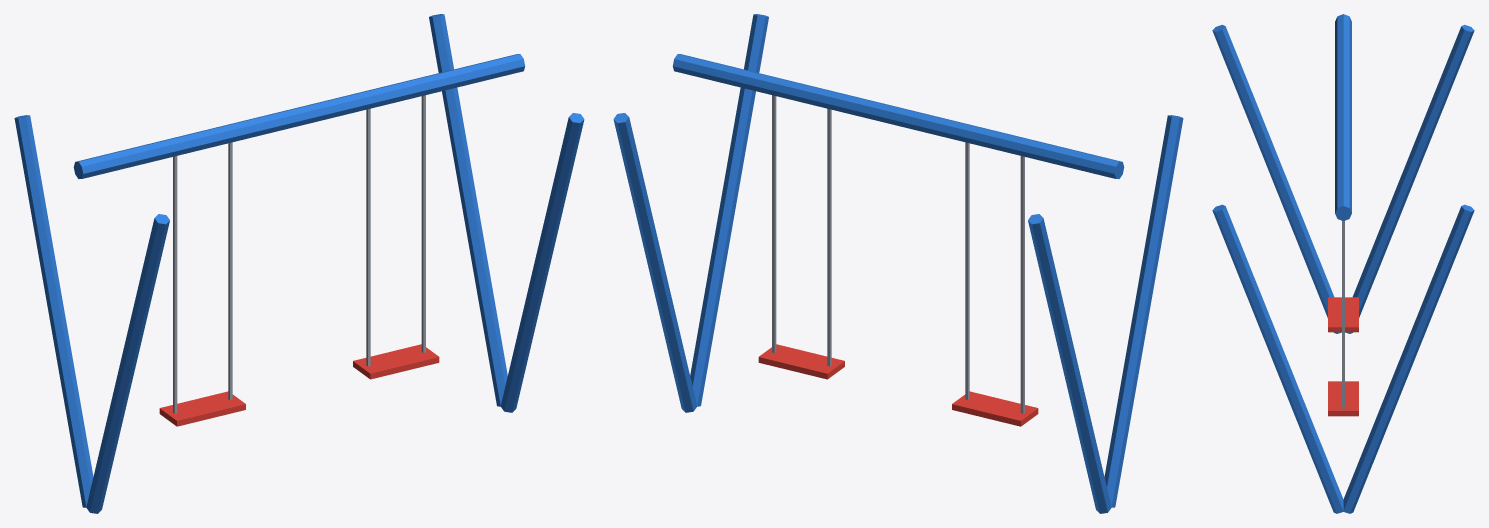
The model's file is Playground_Swing.fbx.
3 views of the same model, side by side, from view 1: azimuth 30°, elevation 25°; view 2: azimuth 150°, elevation 25°; view 3: azimuth 270°, elevation 25° (orthographic). The views are drawn at different scales.
Parts seen in each view (by area): view 1: Playground_Swing; view 2: Playground_Swing; view 3: Playground_Swing.
Part boxes in pixels (x1=…): Playground_Swing: x1=14, y1=14, x2=584, y2=513; Playground_Swing: x1=613, y1=14, x2=1183, y2=513; Playground_Swing: x1=1212, y1=14, x2=1474, y2=513.
Bounding box in the file's own units: 3.2 × 2.43 × 1.85.
